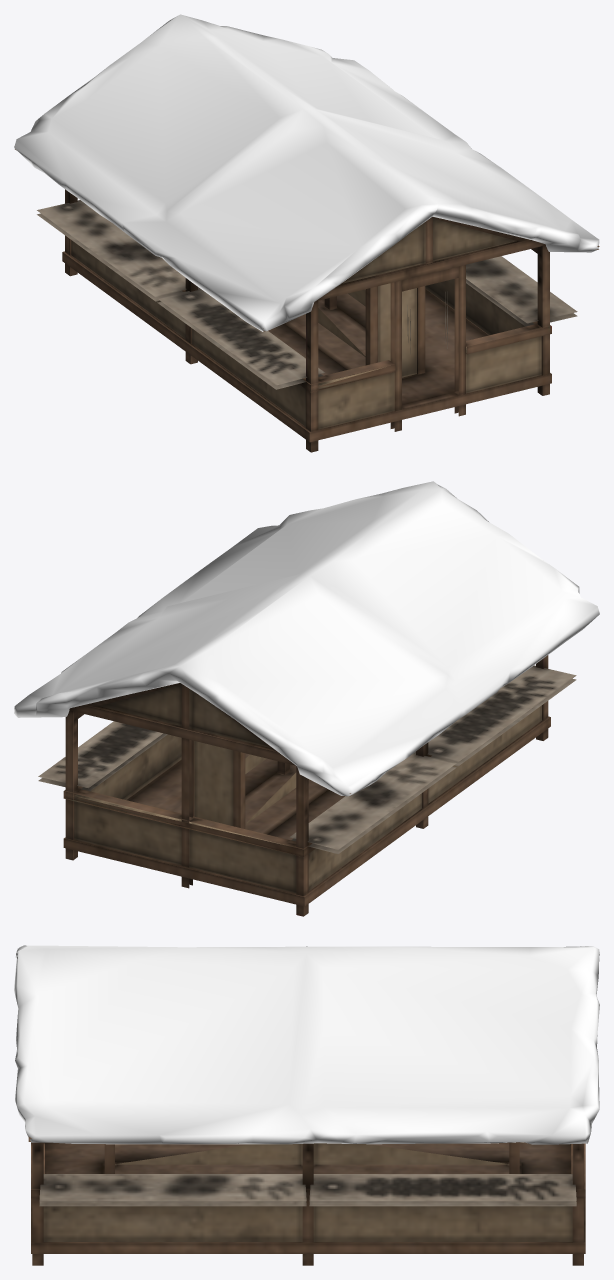
Rendered from christmas-market.glb.
3 views of the same model, one above another, from view 1: azimuth 30°, elevation 25°; view 2: azimuth 150°, elevation 25°; view 3: azimuth 270°, elevation 25° (orthographic). The views are drawn at different scales.
Visible parts, largest first — view 1: anim12:Mesh; view 2: anim12:Mesh; view 3: anim12:Mesh.
Part boxes in pixels (x1,y1,x2,y2): anim12:Mesh: (14, 14, 599, 452); anim12:Mesh: (14, 481, 599, 916); anim12:Mesh: (14, 945, 599, 1265).
Size of the model in its own units: 6.08 by 3.8 by 7.98.
Materials: 5 (4 with a texture image).
